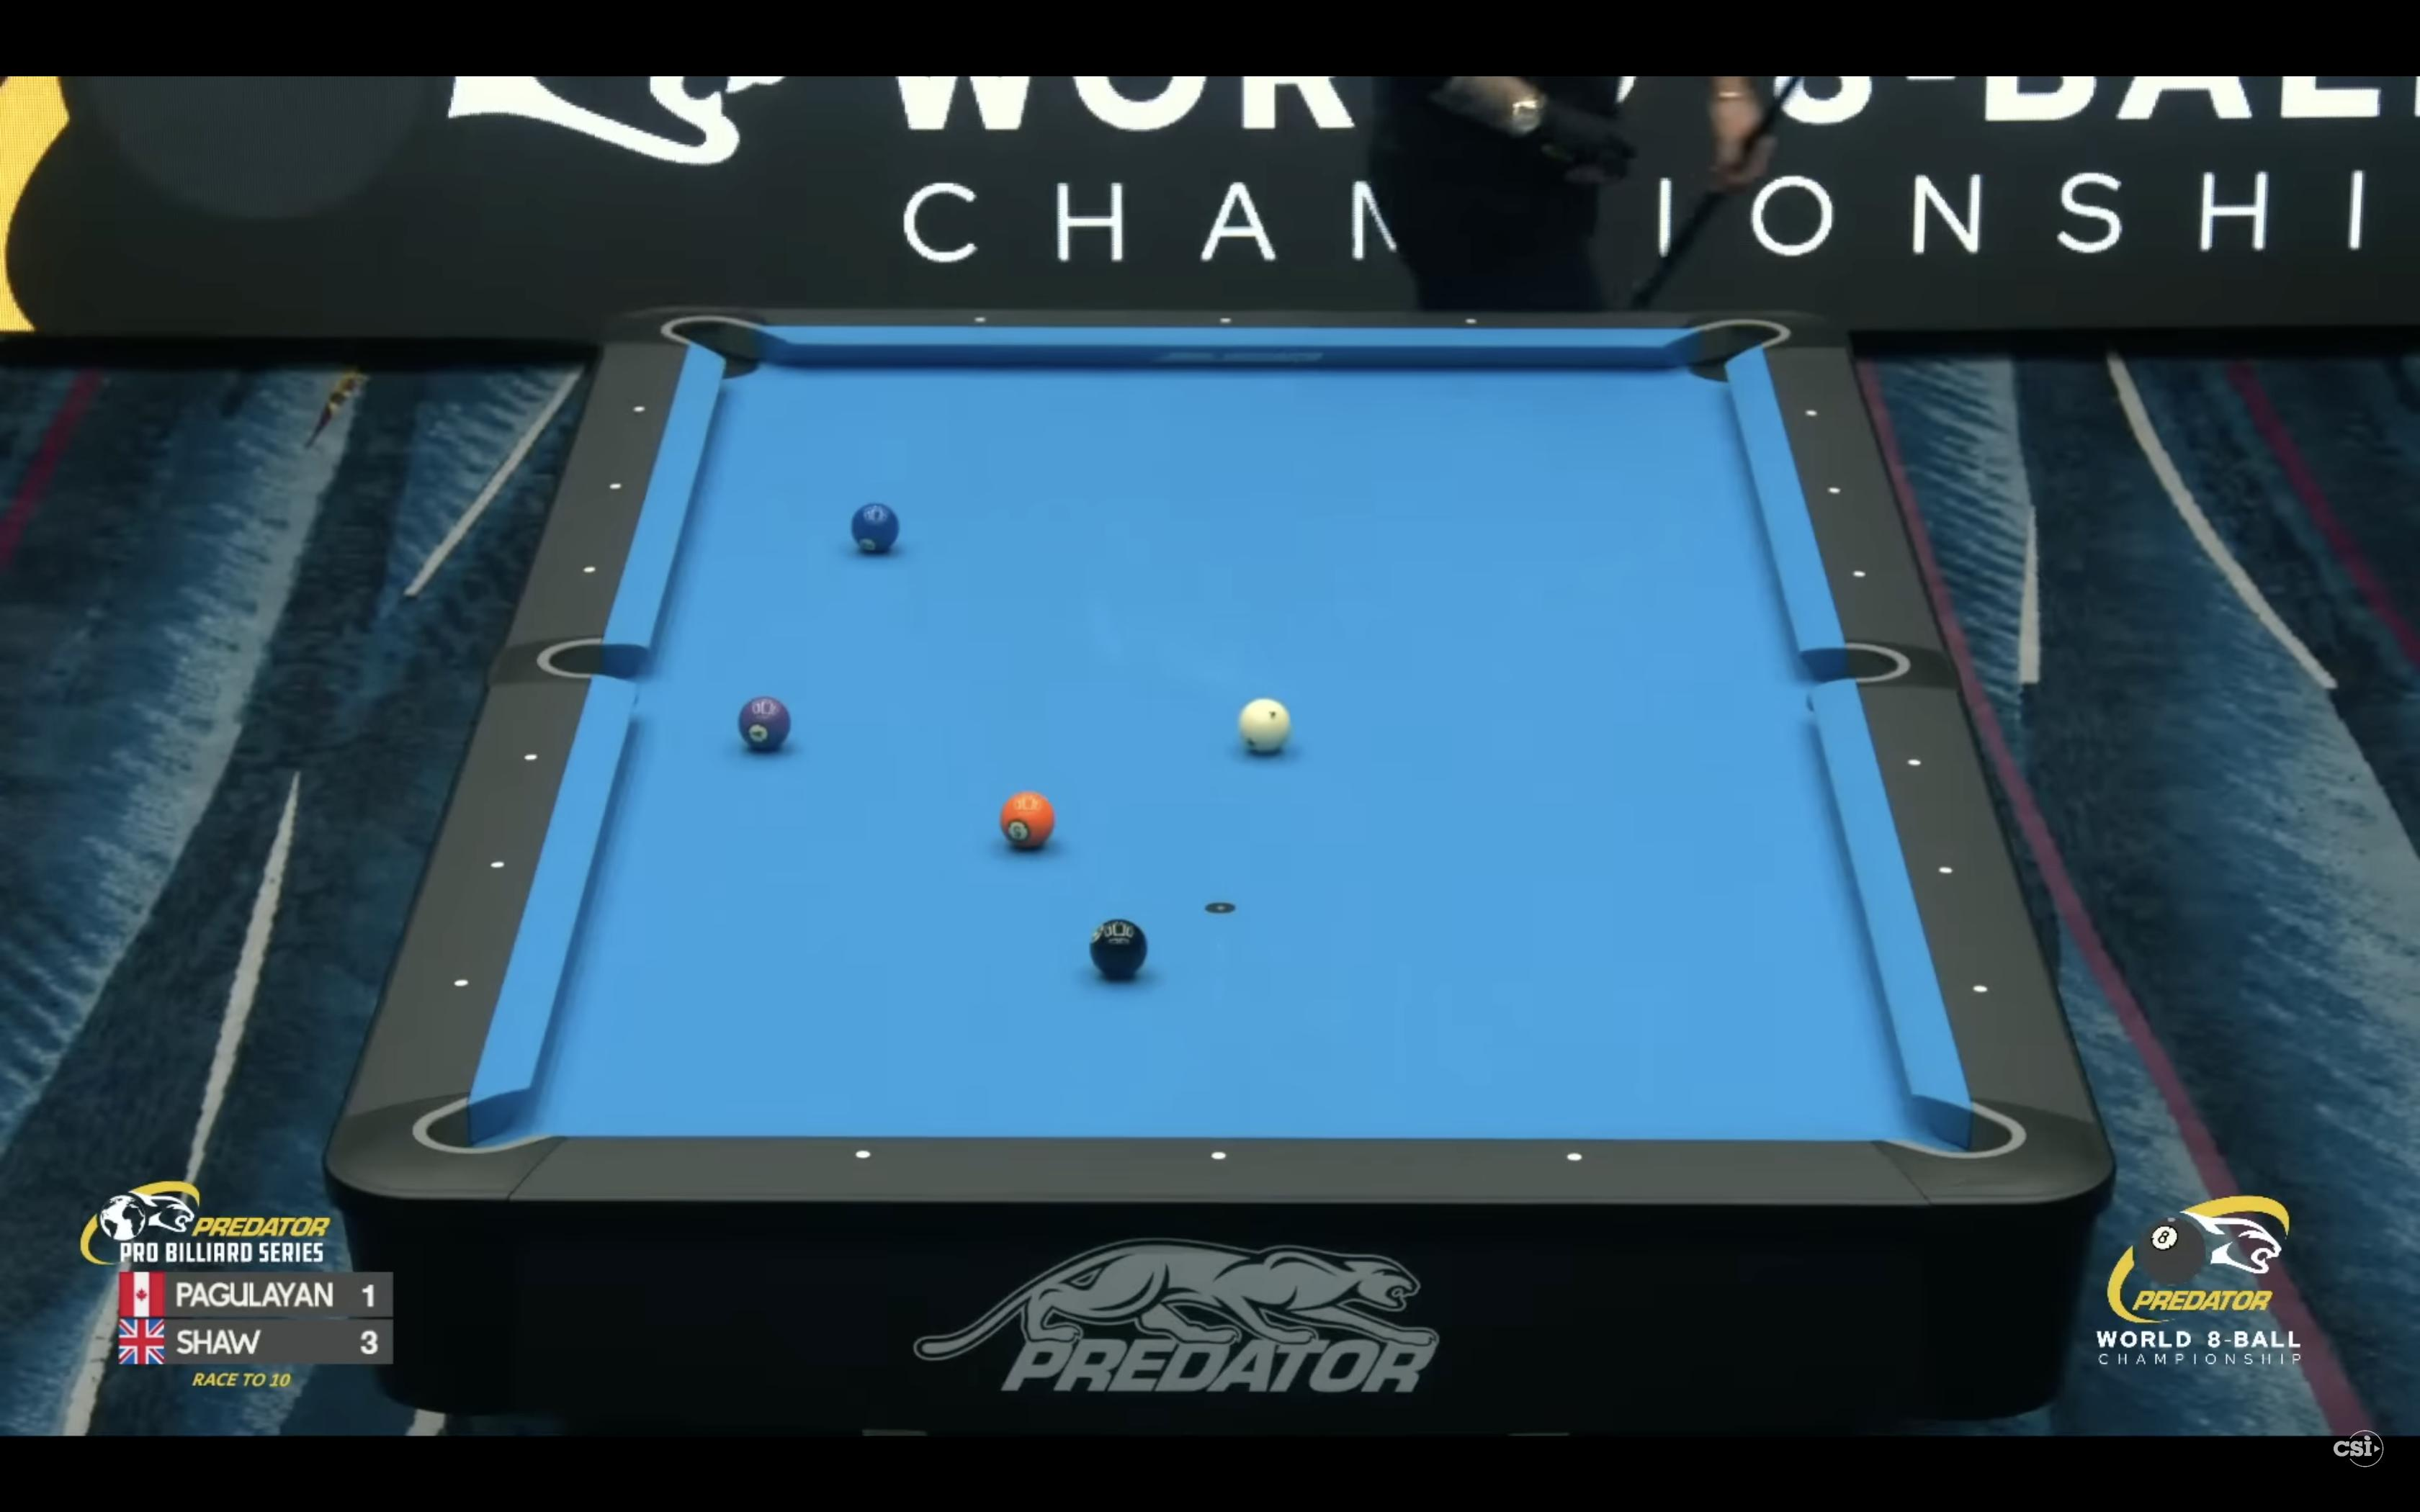Black: (1091, 918, 1148, 977)
Cue: (1239, 699, 1291, 753)
Dot: (855, 1150, 871, 1158), (1211, 1151, 1227, 1160), (1972, 984, 1988, 993), (1939, 866, 1953, 874), (455, 979, 469, 988), (1566, 1153, 1582, 1160), (1854, 570, 1866, 578), (1805, 409, 1817, 418), (1908, 759, 1922, 766), (1828, 488, 1842, 495), (632, 406, 646, 413), (491, 861, 505, 867), (1220, 317, 1232, 324), (610, 483, 622, 489), (584, 566, 596, 573), (524, 754, 537, 761), (1465, 319, 1477, 324), (976, 317, 986, 322)
Solid: (1000, 791, 1054, 848), (737, 697, 791, 751), (850, 502, 899, 552)
